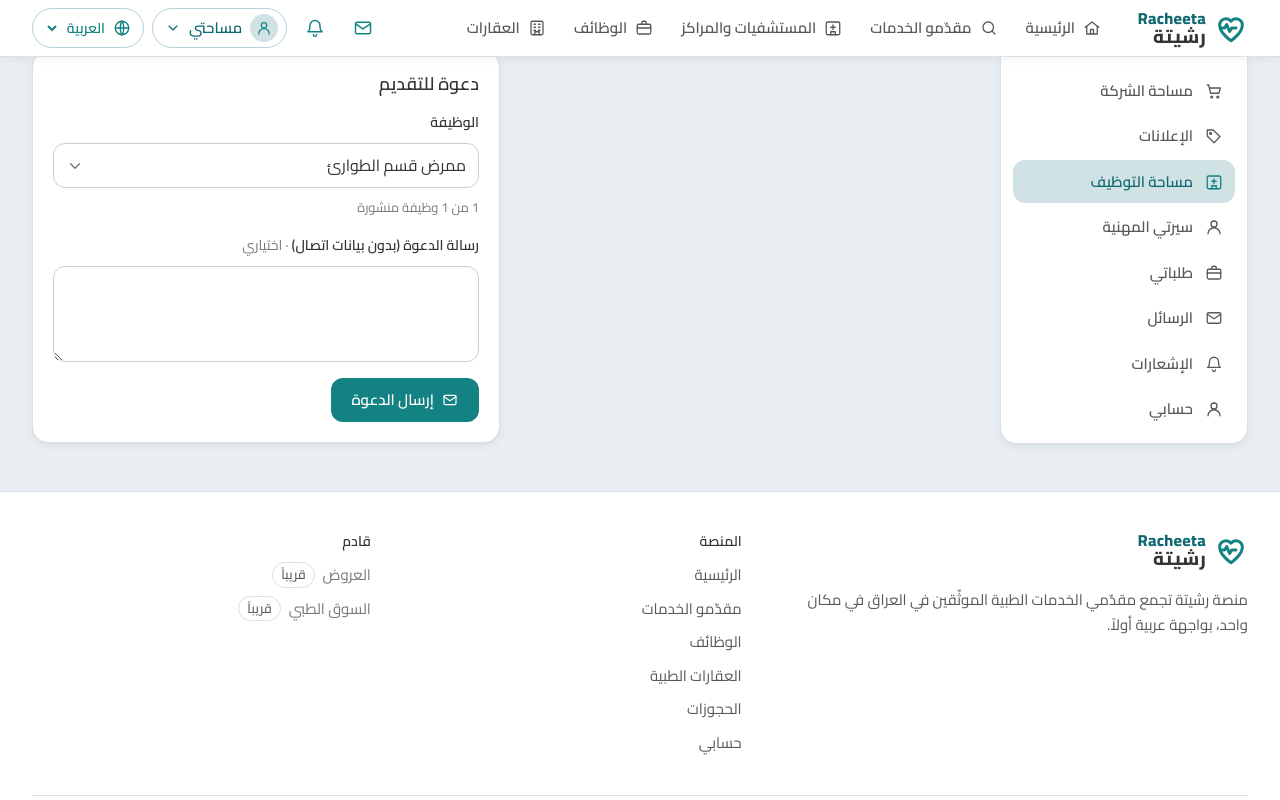
Test: Talent search › shows a candidate and sends an invitation for a published job
(page scrolled)
Click the button "إرسال الدعوة": (405, 400) [331,378,479,422]
(page scrolled)
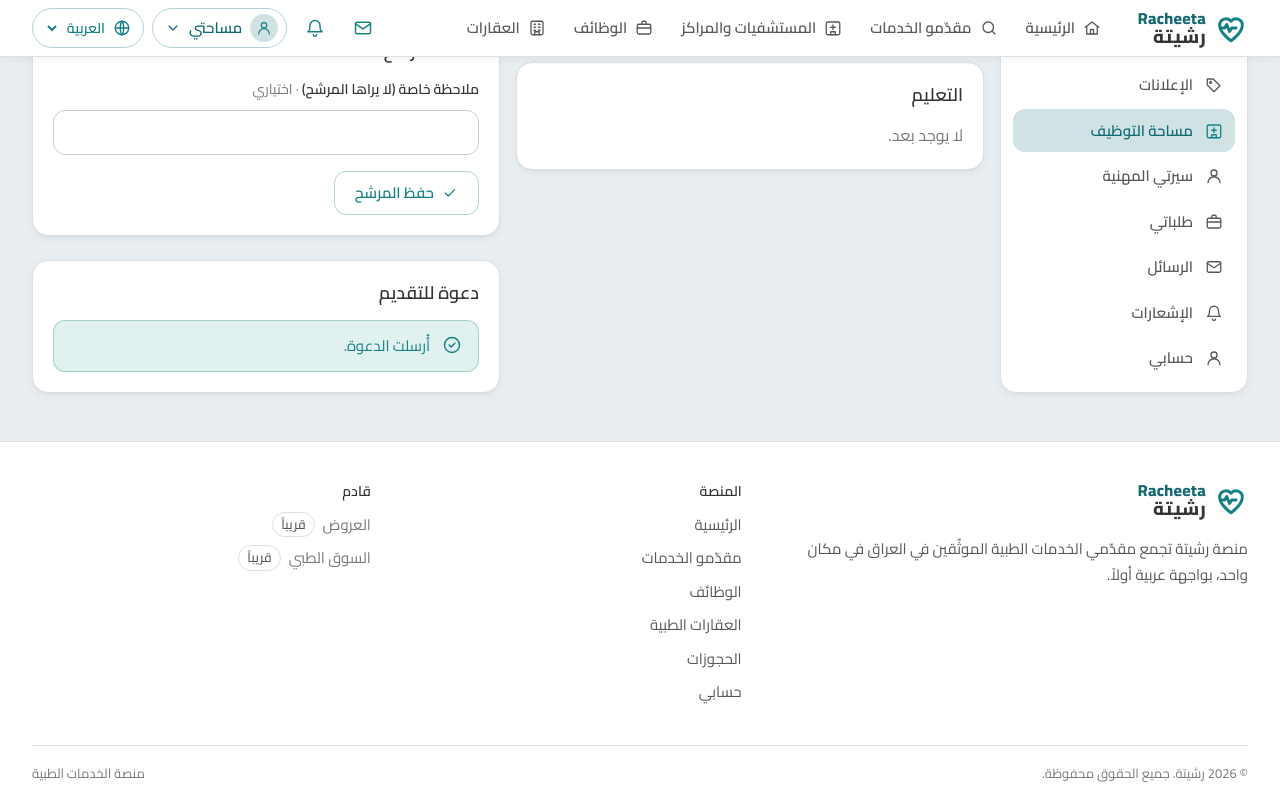
Now the text "أُرسلت الدعوة." is shown, box [344,331,430,360]
